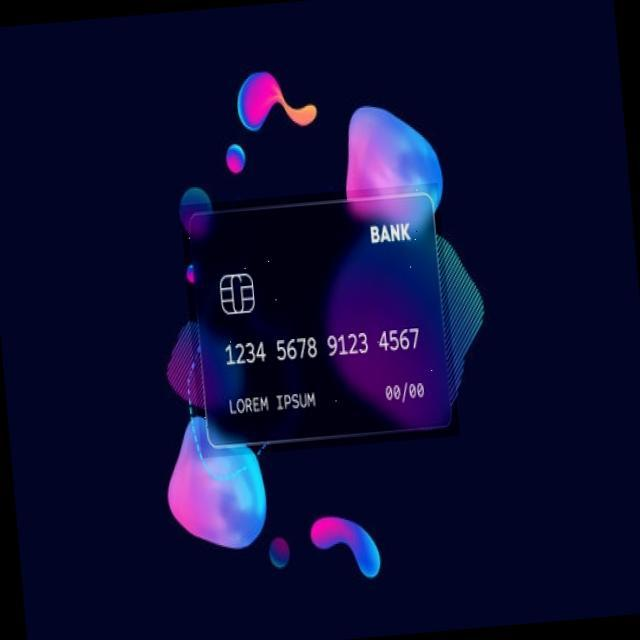payment_card: (184, 189, 453, 449)
